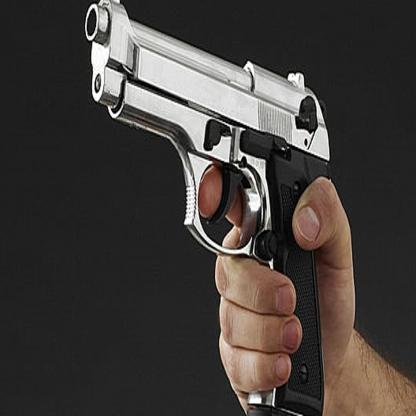gun: (83, 0, 334, 416), (81, 0, 89, 12)
